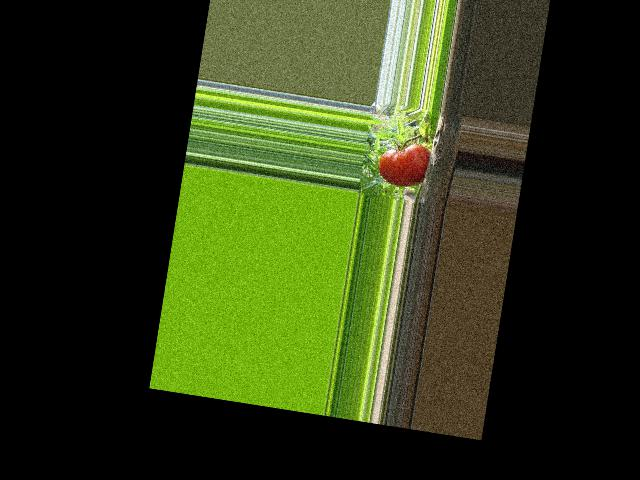tomato: (375, 138, 432, 189)
